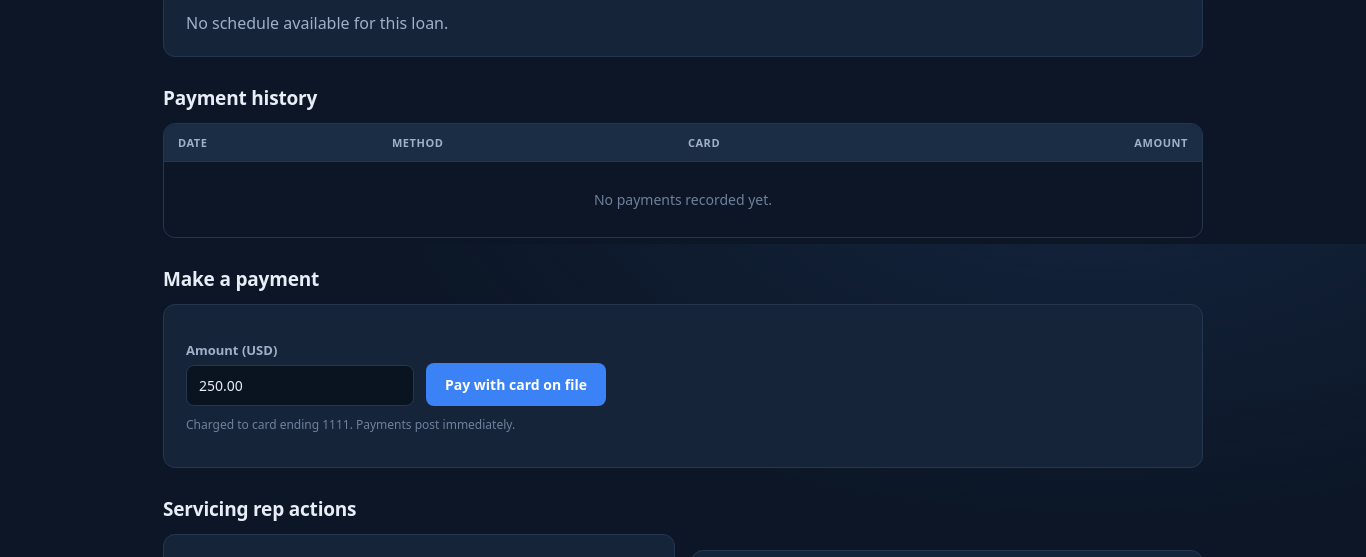
loan detail — captured but unapplied payment › does not show a success message when the apply is rejected
(page scrolled)
Click the button "Pay with card on file" at (516,384), box [426,362,606,406]
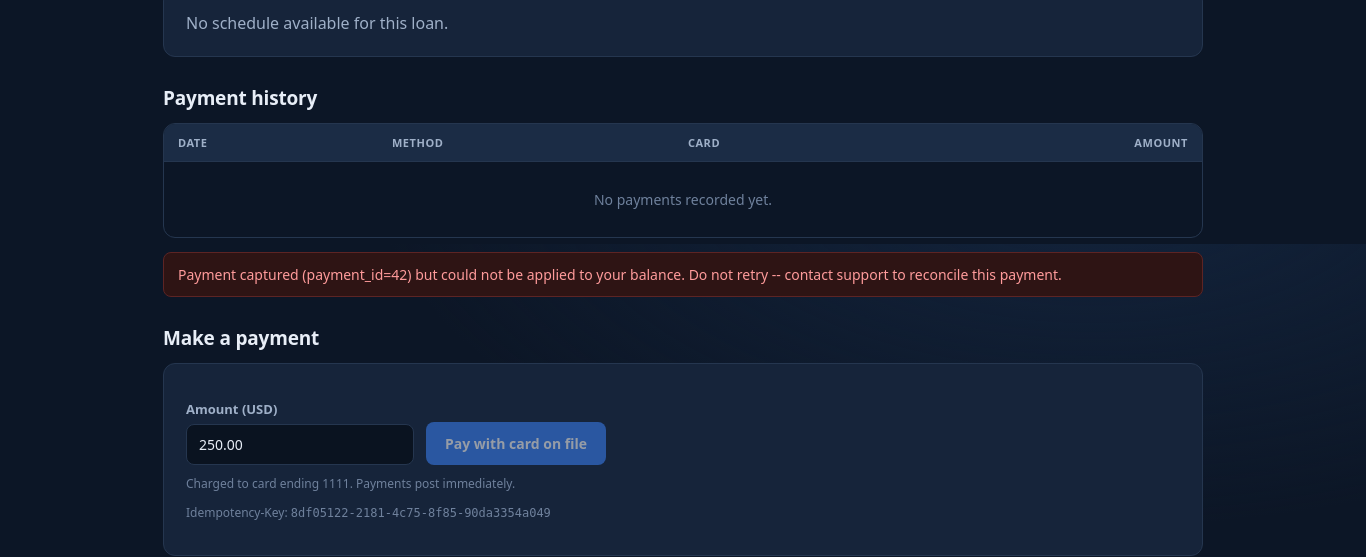
Check: the text "could not be applied to your balance" is shown, box [178,264,1062,284]
